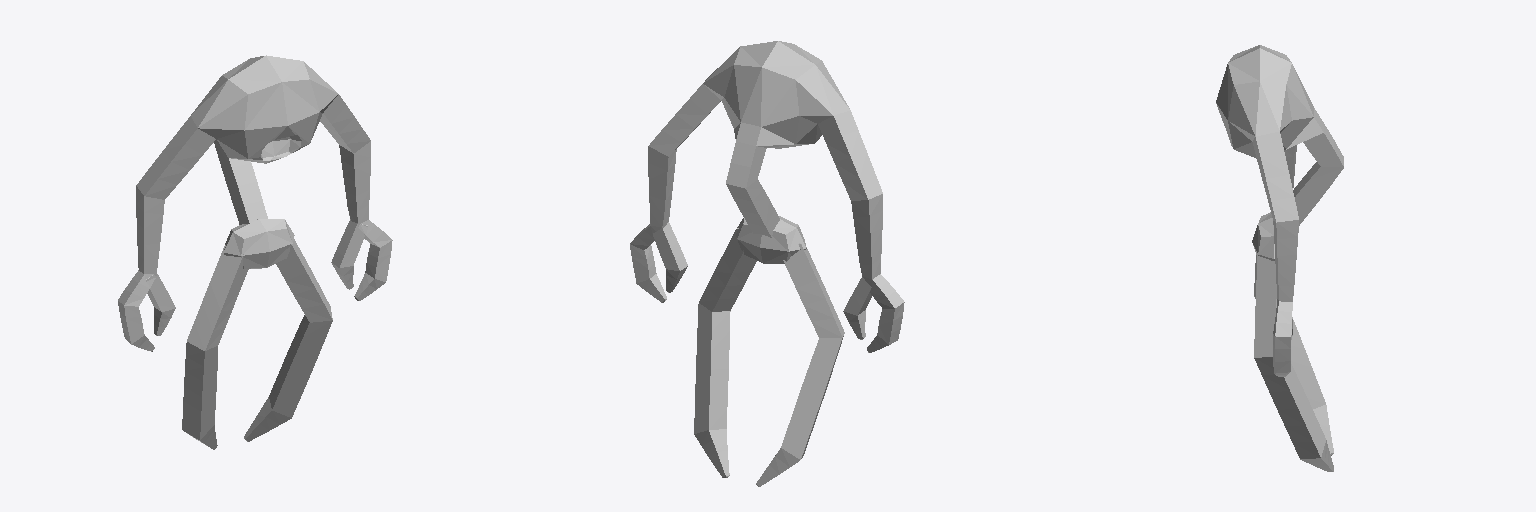
File: Mossling.obj
3 renders of one model, left to right at view 1: azimuth 30°, elevation 25°; view 2: azimuth 150°, elevation 25°; view 3: azimuth 270°, elevation 25°, orthographic.
Size of the model in its own units: 0.5791 by 0.857 by 0.24.